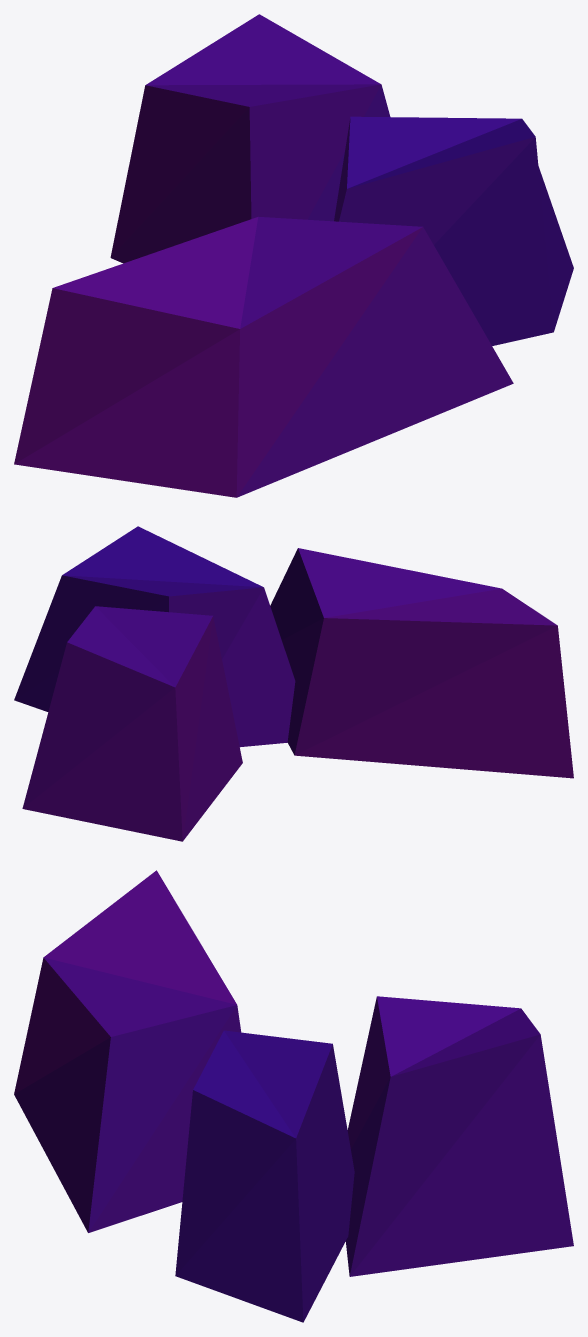
The model's file is SM_CinderCanyon_Chip_D.fbx.
The picture shows the model from 3 angles, top to bottom: view 1: azimuth 30°, elevation 25°; view 2: azimuth 150°, elevation 25°; view 3: azimuth 270°, elevation 25°; orthographic projection. The views are drawn at different scales.
Visible parts, largest first — view 1: SM_CinderCanyon_Chip_D; view 2: SM_CinderCanyon_Chip_D; view 3: SM_CinderCanyon_Chip_D.
Boxes of the visible parts, x1,y1,x2,y2 form: SM_CinderCanyon_Chip_D: [14, 14, 573, 497]; SM_CinderCanyon_Chip_D: [14, 526, 573, 841]; SM_CinderCanyon_Chip_D: [14, 870, 573, 1322].
Bounding box in the file's own units: 100 × 81 × 33.
